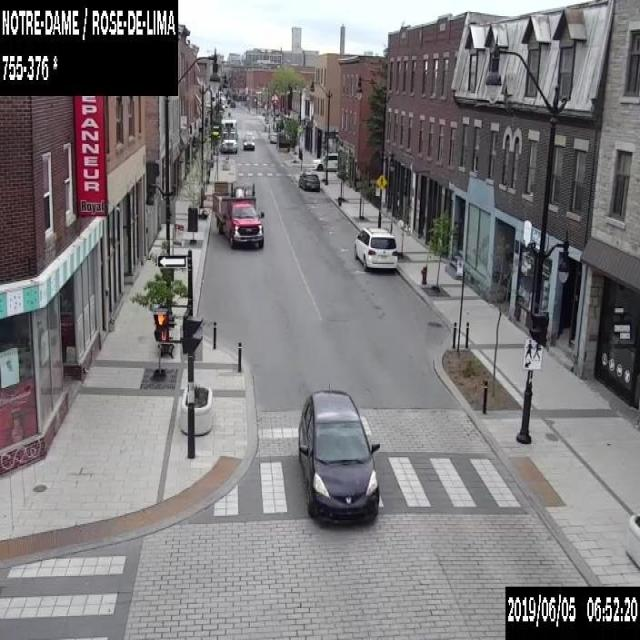vehicle: (295, 388, 380, 525), (212, 180, 264, 247), (353, 227, 397, 270), (219, 118, 237, 152), (311, 152, 337, 170), (298, 168, 319, 190), (242, 135, 254, 149), (269, 134, 276, 142), (229, 100, 235, 106)
